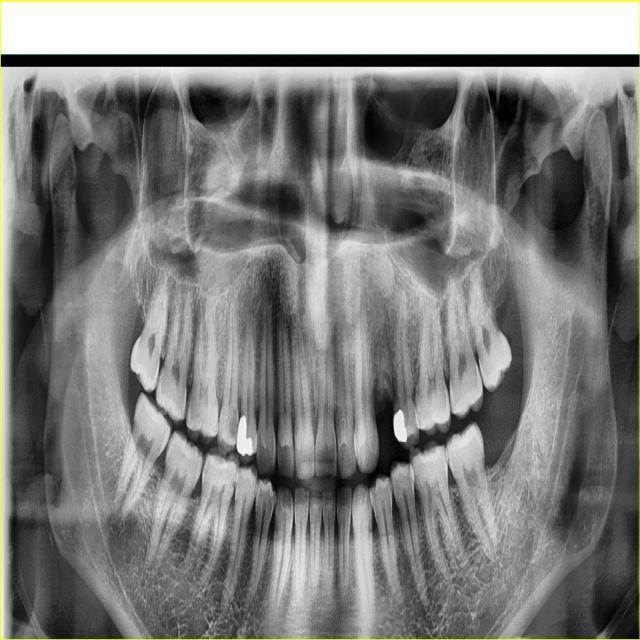72: (376, 342, 393, 410)
NucleOSS Implant: (234, 416, 253, 457), (392, 409, 407, 444)
Sterngold Implant: (225, 406, 240, 444), (185, 393, 199, 427), (231, 479, 236, 489), (182, 454, 186, 460)
